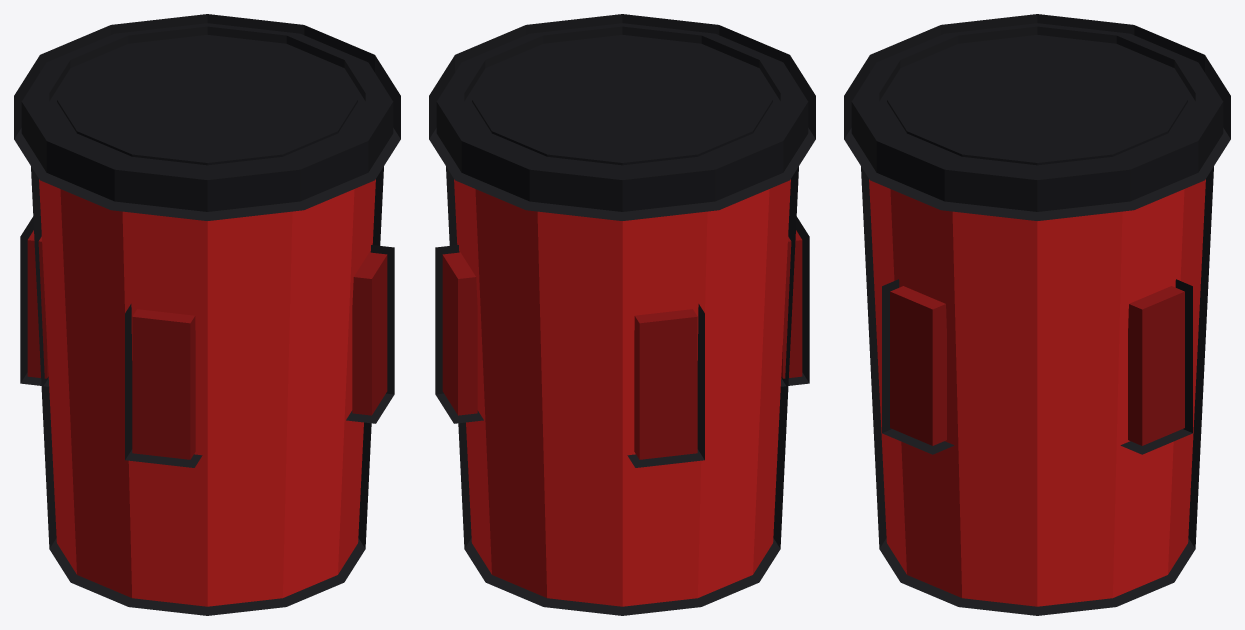
File: Bote_Basura.fbx
The picture shows the model from 3 angles, left to right: view 1: azimuth 30°, elevation 25°; view 2: azimuth 150°, elevation 25°; view 3: azimuth 270°, elevation 25°; orthographic projection.
Visible parts, largest first — view 1: Bote_Basura; view 2: Bote_Basura; view 3: Bote_Basura.
Part boxes in pixels (box(x1,y1,x2,y2)): Bote_Basura: box(14, 14, 400, 615); Bote_Basura: box(429, 14, 815, 615); Bote_Basura: box(844, 14, 1230, 615).
Size of the model in its own units: 0.7703 by 1 by 0.7703.
2 materials, 1 textured.
